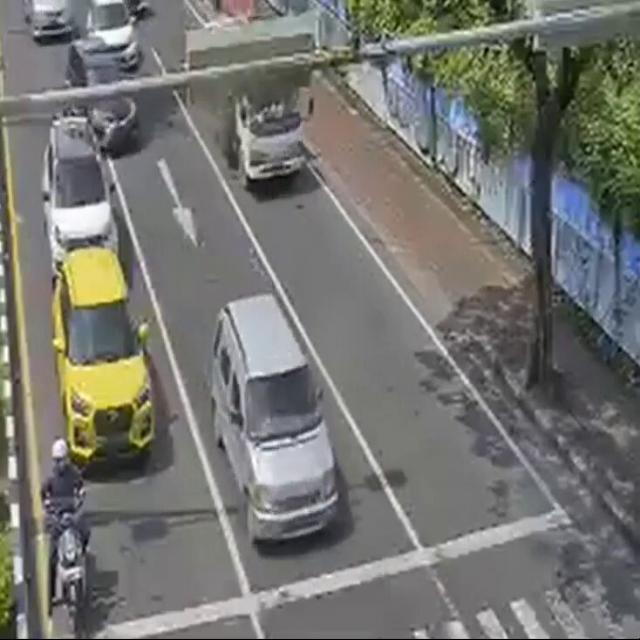car: (209, 274, 336, 592), (36, 263, 175, 466), (28, 108, 134, 256)
motorbike: (36, 437, 105, 617)
